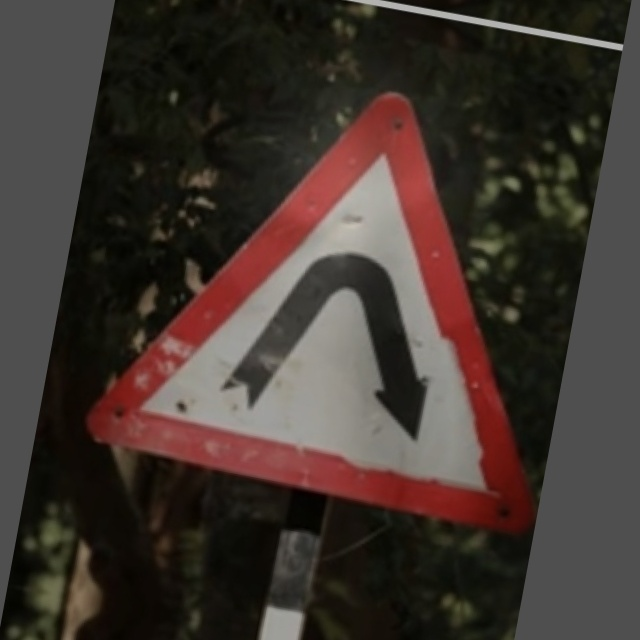Right_Hair_Pin_Bend: (84, 52, 586, 531)
